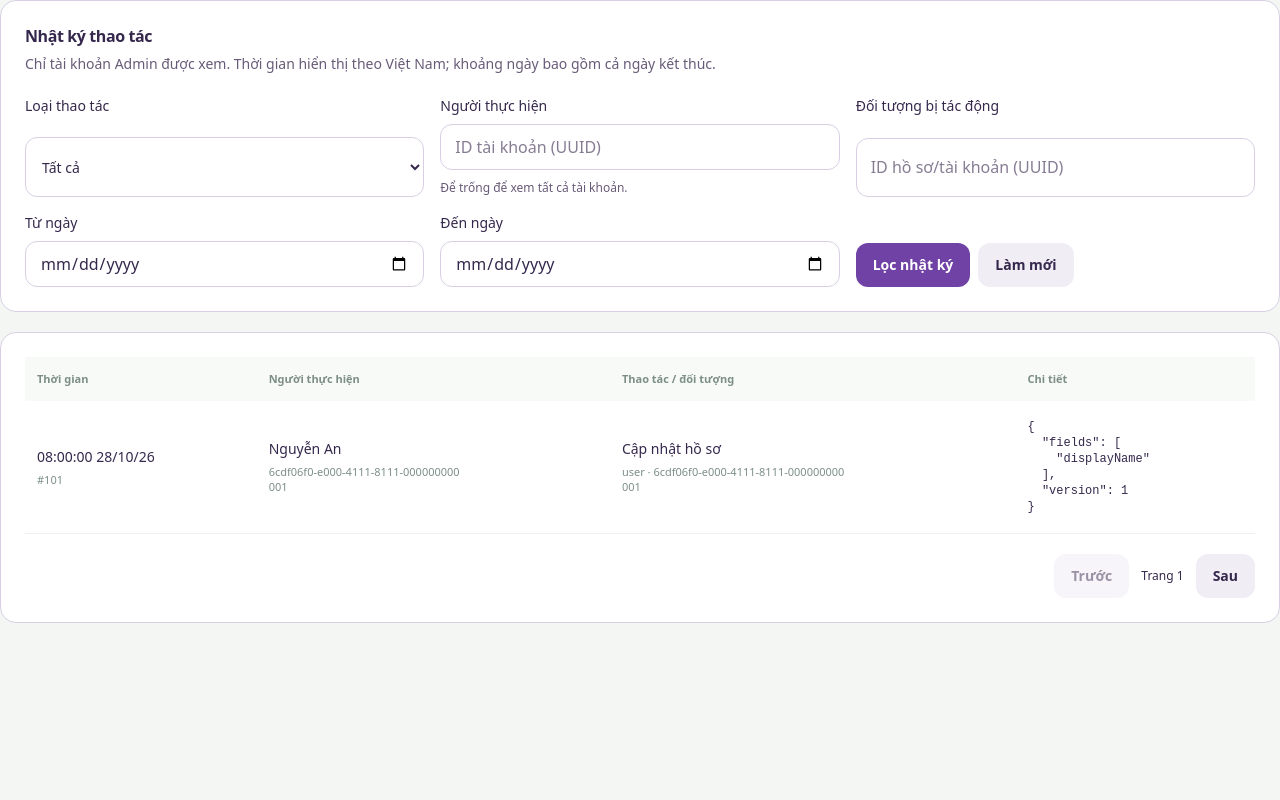
Scenario: audit viewer › uses server cursors and resets pagination when applying a filter
Expected: the text "Nguyễn An" is shown, [269, 439, 342, 458]
Click the button "Sau" at (1225, 576), box [1196, 554, 1255, 598]
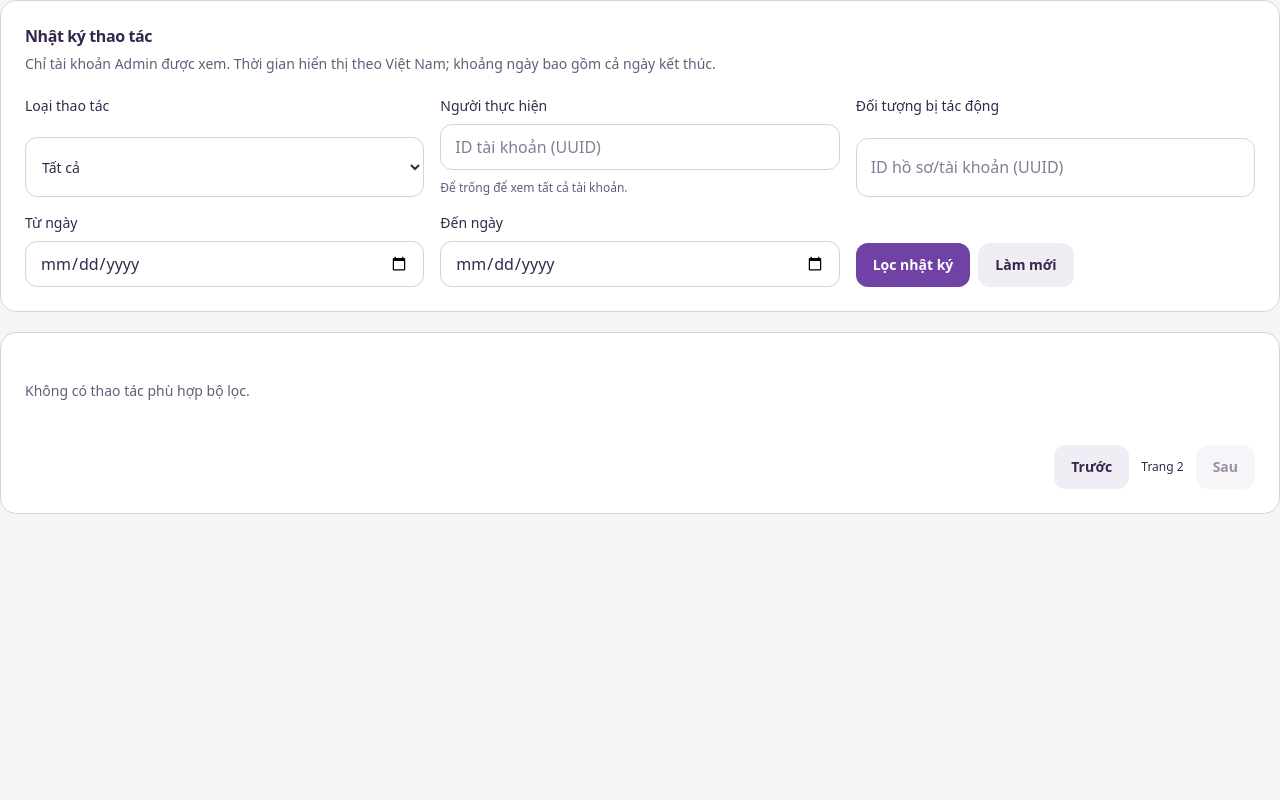
Expected: the text "Trang 2" is shown, [1141, 459, 1184, 475]
Expected: the text "Không có thao tác phù hợp bộ lọc." is shown, [25, 381, 250, 400]
Select "Duyệt hồ sơ tài xế" in the dropdown labelled "Loại thao tác" at (225, 167), box [25, 137, 424, 197]
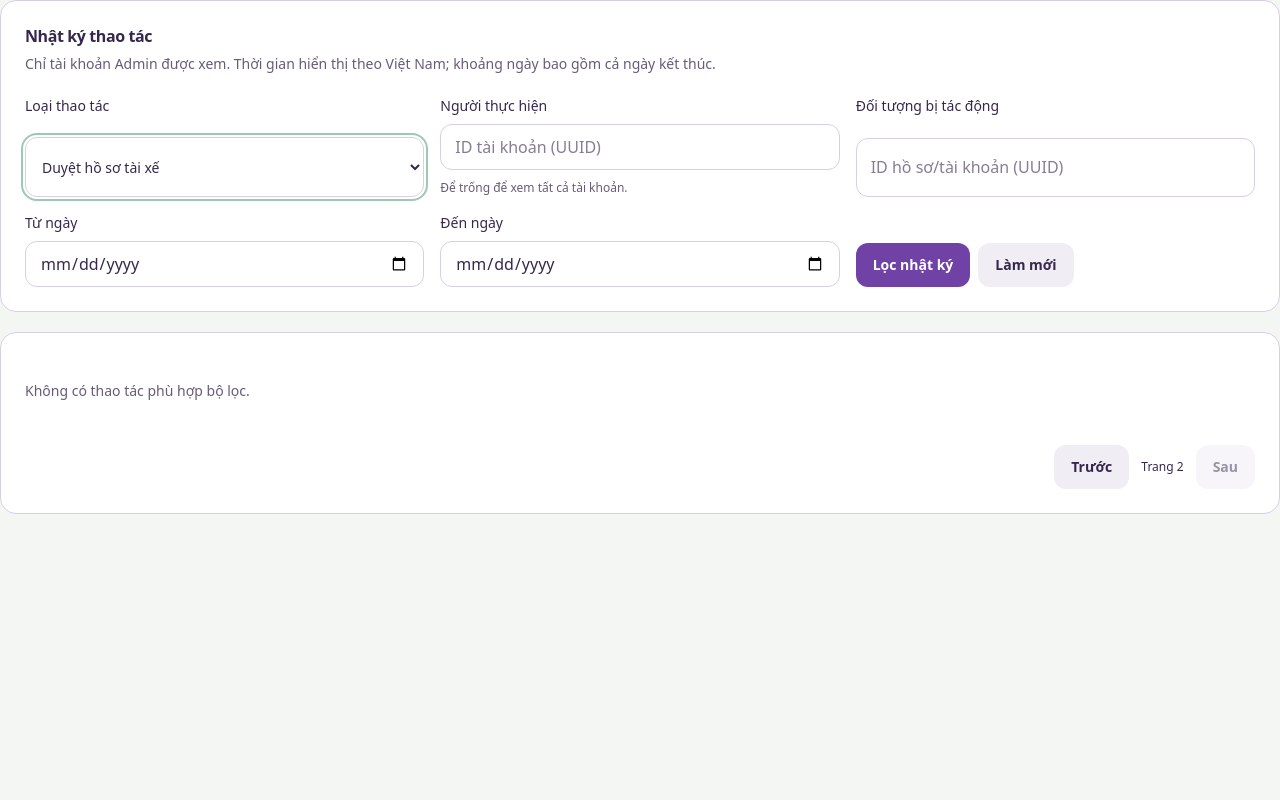
Click the button "Lọc nhật ký" at (913, 265), box [856, 243, 970, 287]
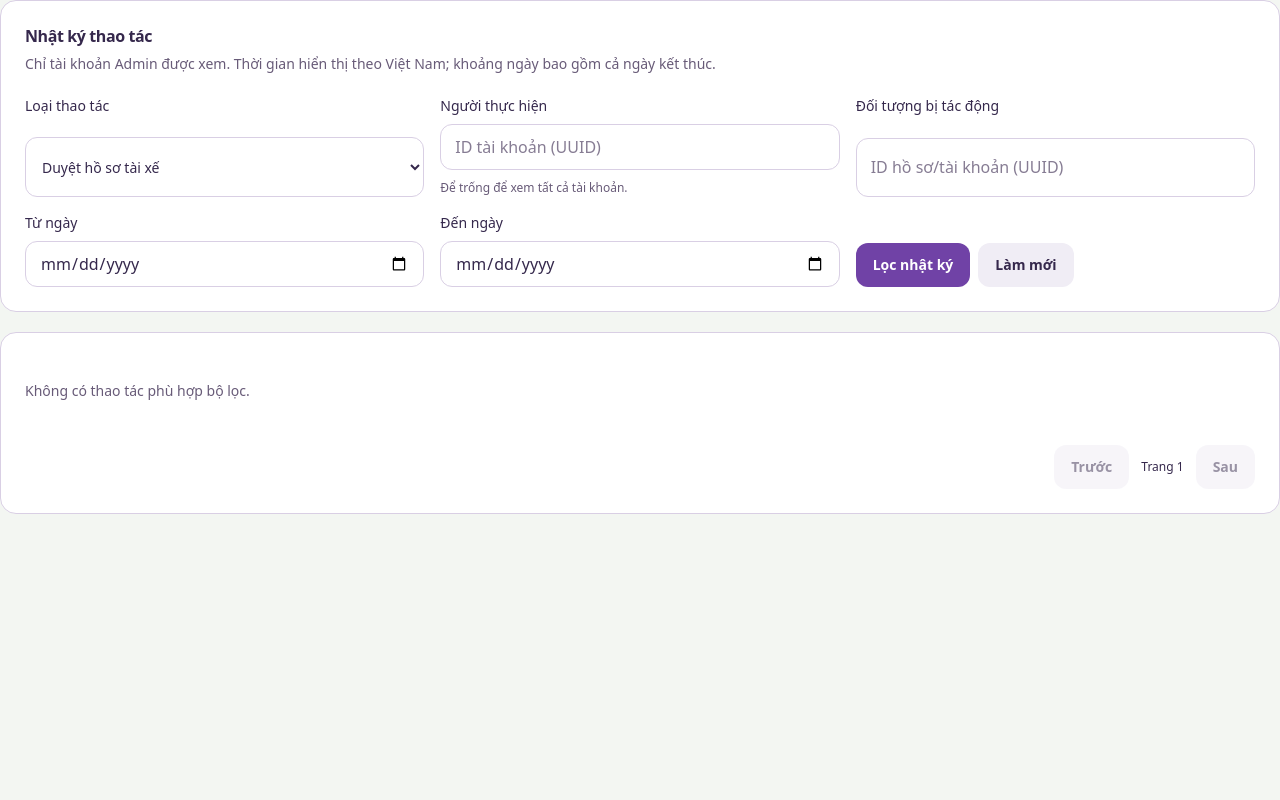
Expected: the text "Trang 1" is shown, [1141, 459, 1184, 475]
